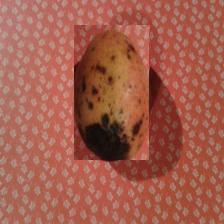Mango Semirotten: (75, 25, 151, 160)
